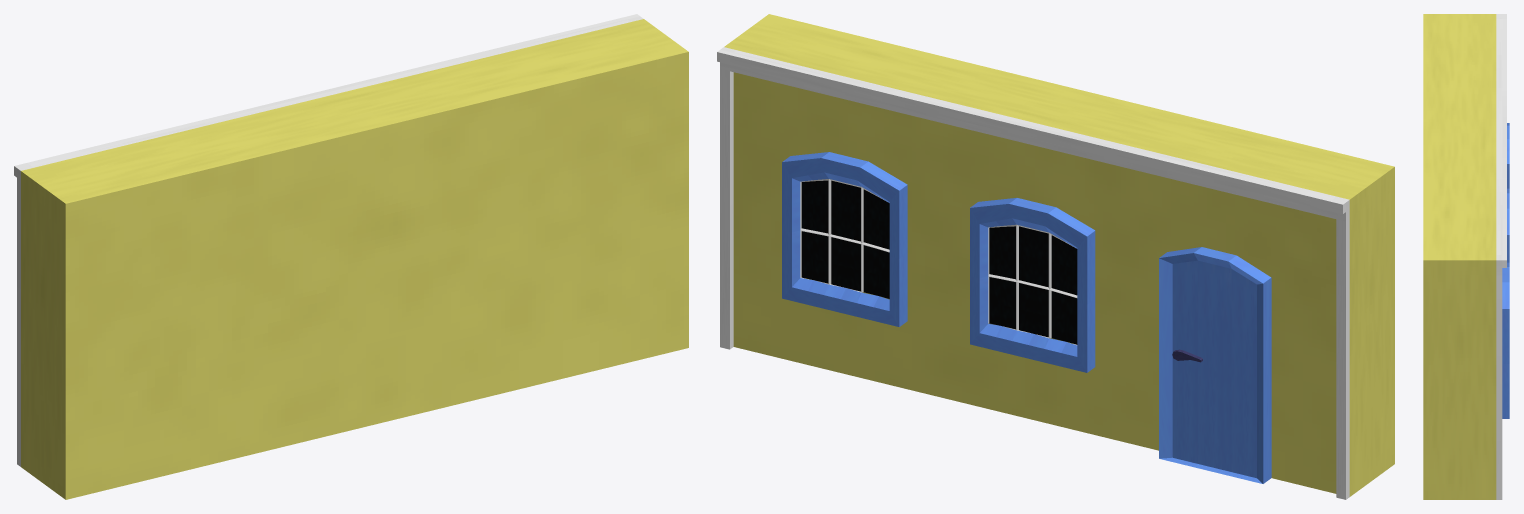
The model's file is casaflo1.gltf.
The picture shows the model from 3 angles, left to right: view 1: azimuth 30°, elevation 25°; view 2: azimuth 150°, elevation 25°; view 3: azimuth 270°, elevation 25°; orthographic projection. The views are drawn at different scales.
Parts seen in each view (by area): view 1: cuboid; view 2: cuboid (×4); view 3: cuboid (×4).
Boxes of the visible parts, x1,y1,x2,y2 form: cuboid: (14, 14, 688, 499); cuboid (×4): (717, 14, 1394, 499); cuboid (×4): (1423, 14, 1509, 499).
Size of the model in its own units: 3 by 1.36 by 0.4438.
1 material, 1 textured.
